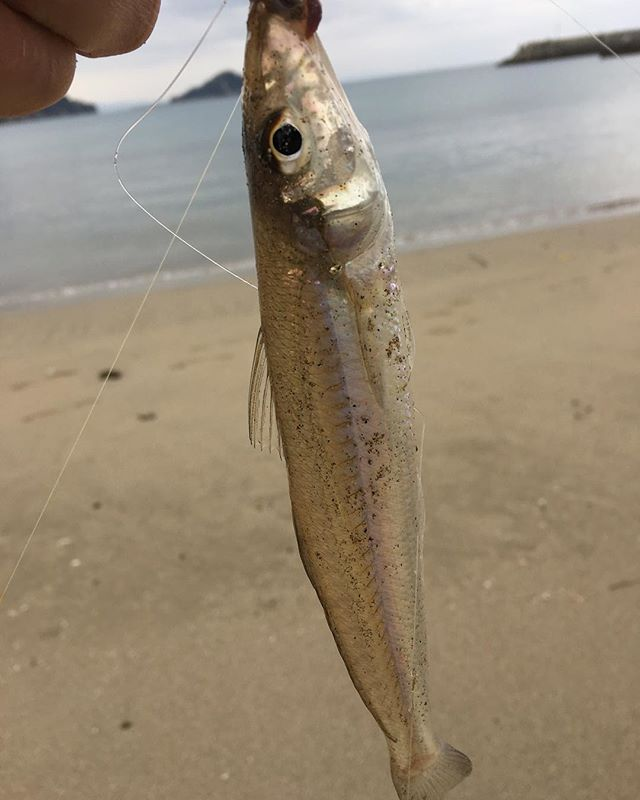kiss: (222, 1, 486, 799)
